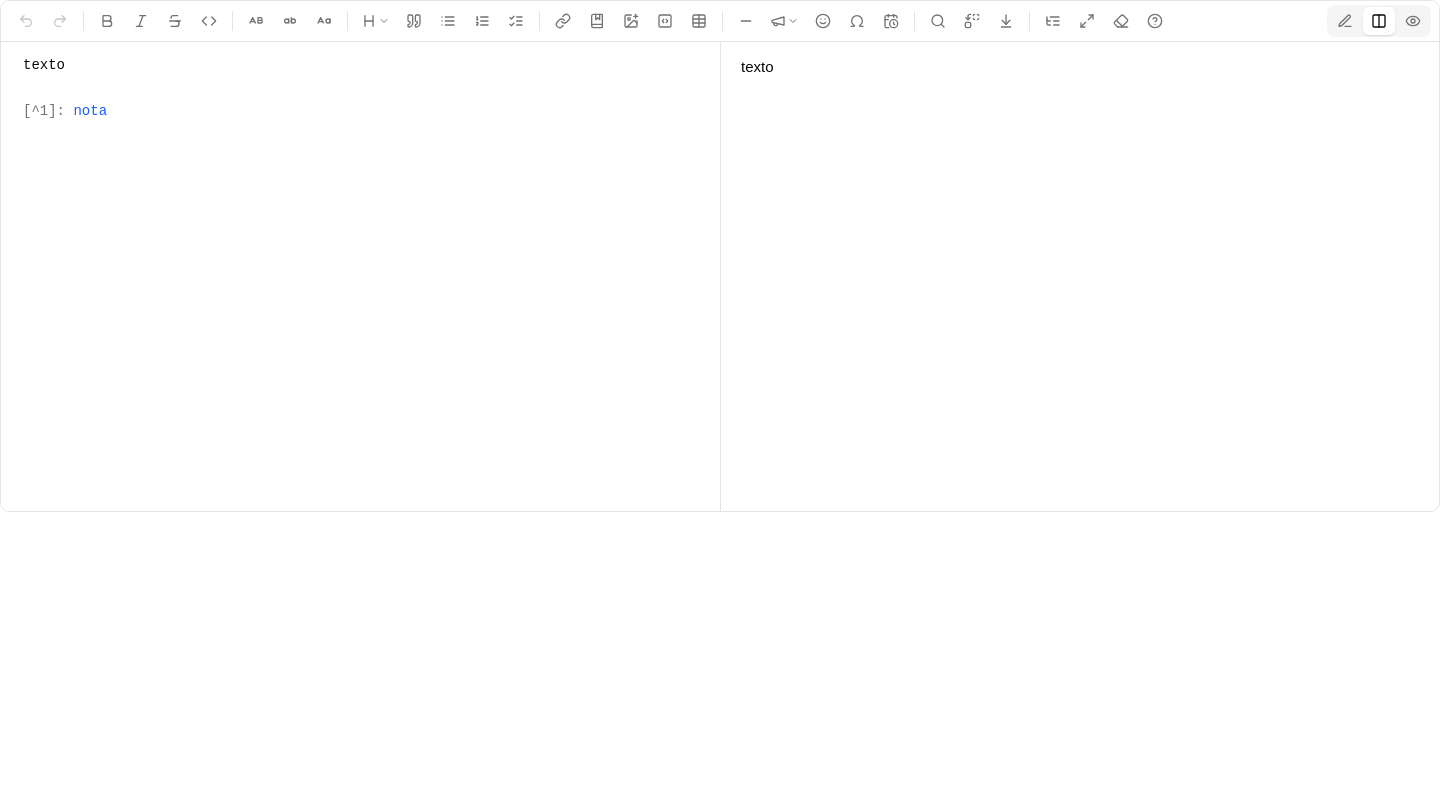
Scenario: flags a repeated reference id
Click the button named "Referencia": [597, 21] box [581,5,613,37]
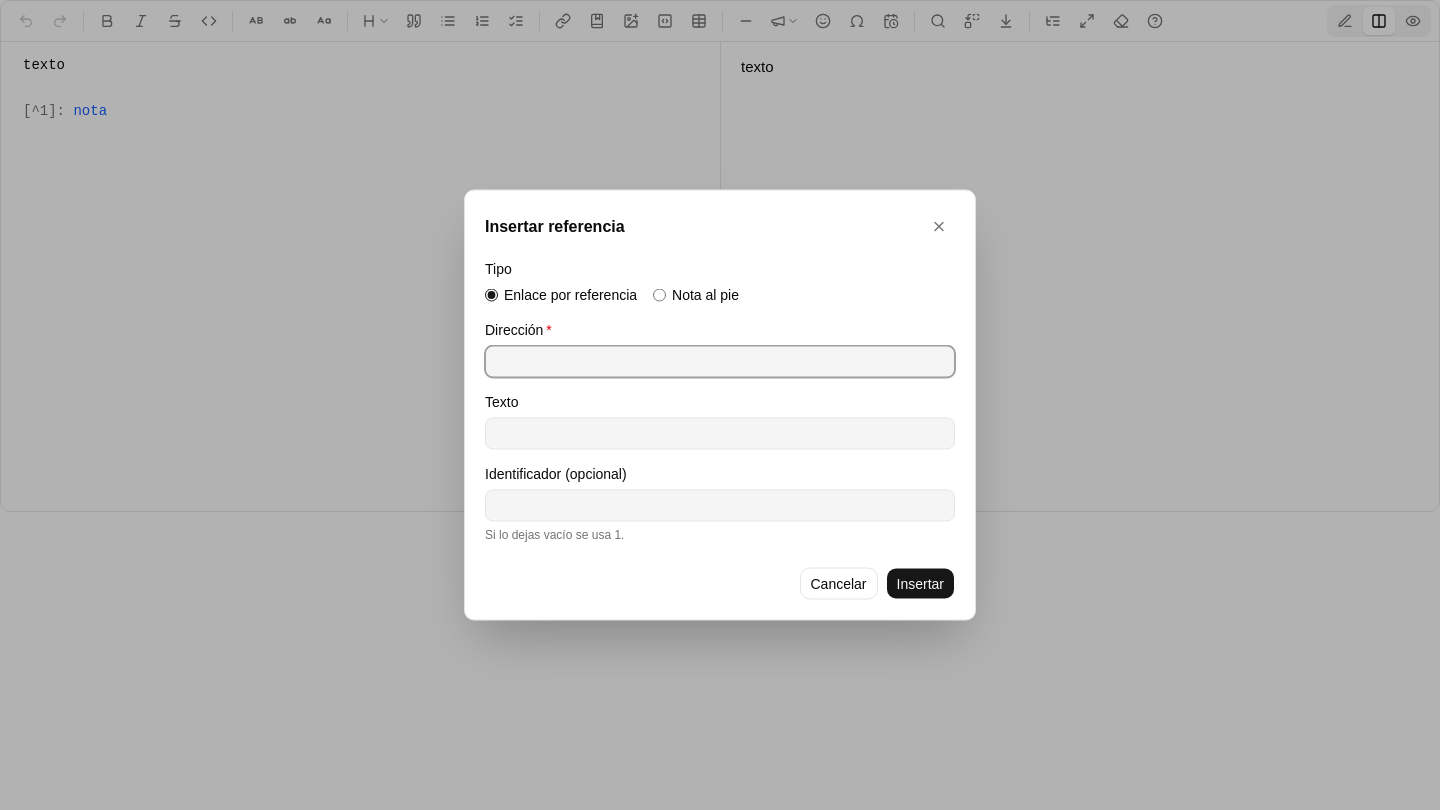
Click the radio button labelled "Nota al pie": [660, 295] box [653,288,666,302]
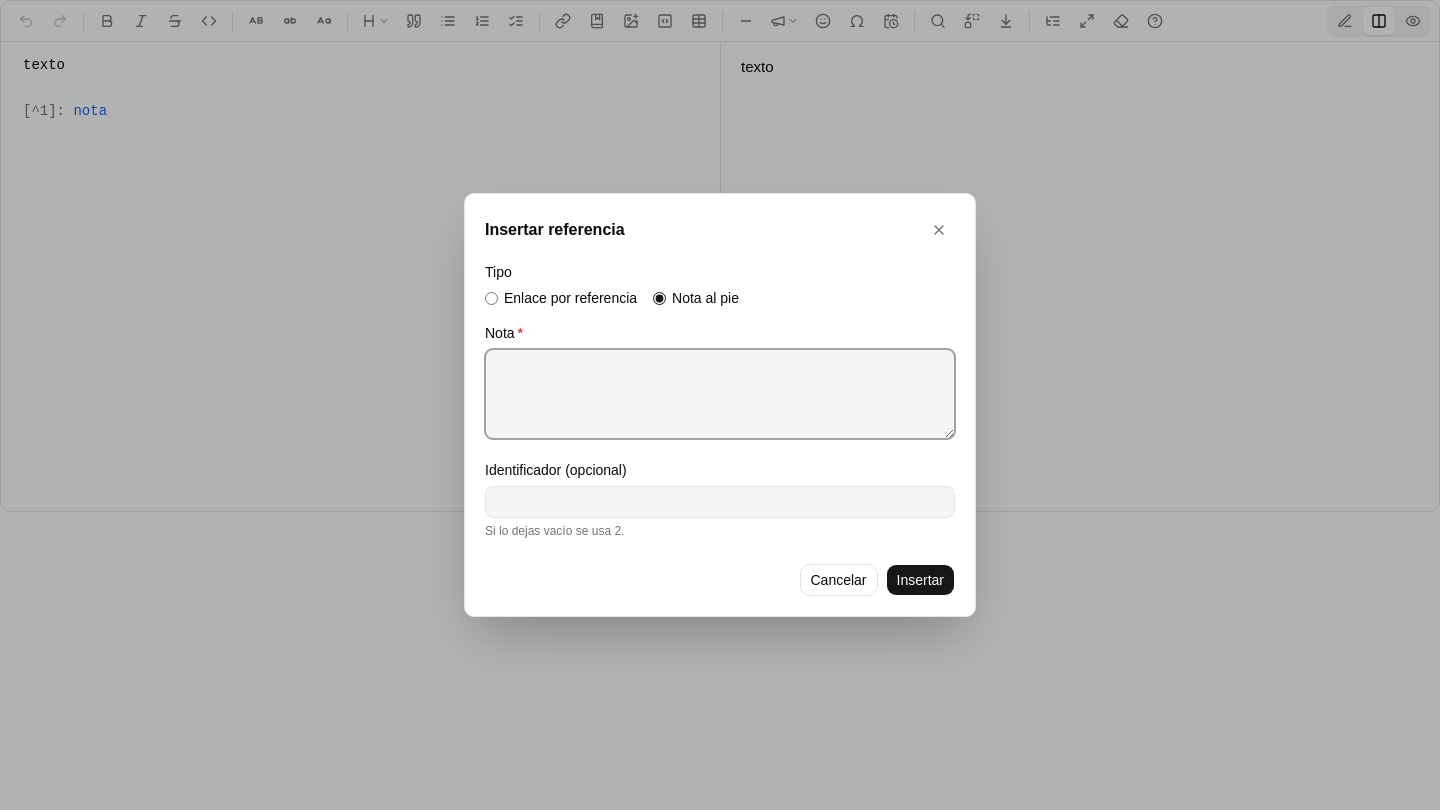
In the text box labelled "Nota": [720, 394] box [485,349,955,439], type "otra"
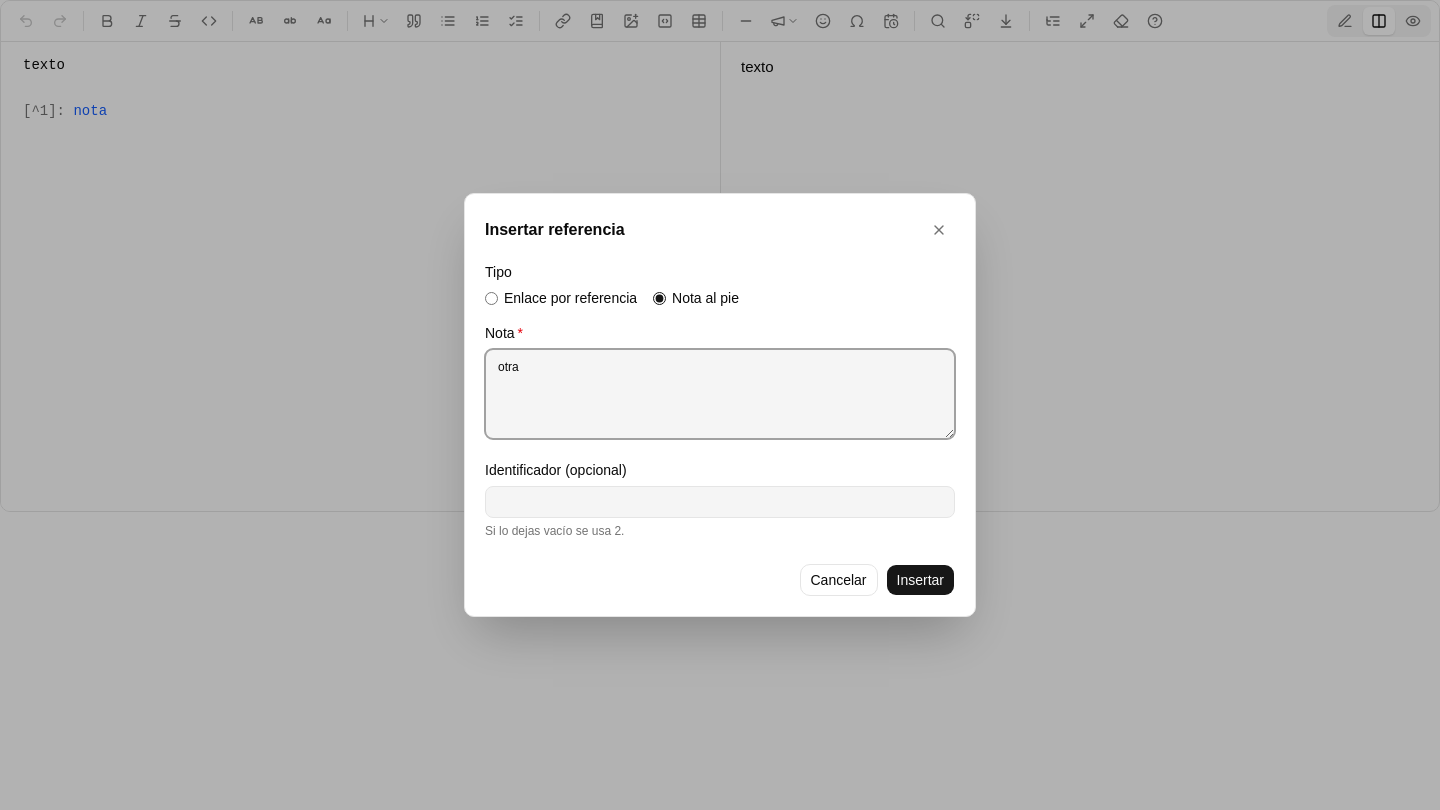
In the field labelled "Identificador (opcional)": [720, 502] box [485,486,955,518], type "1"
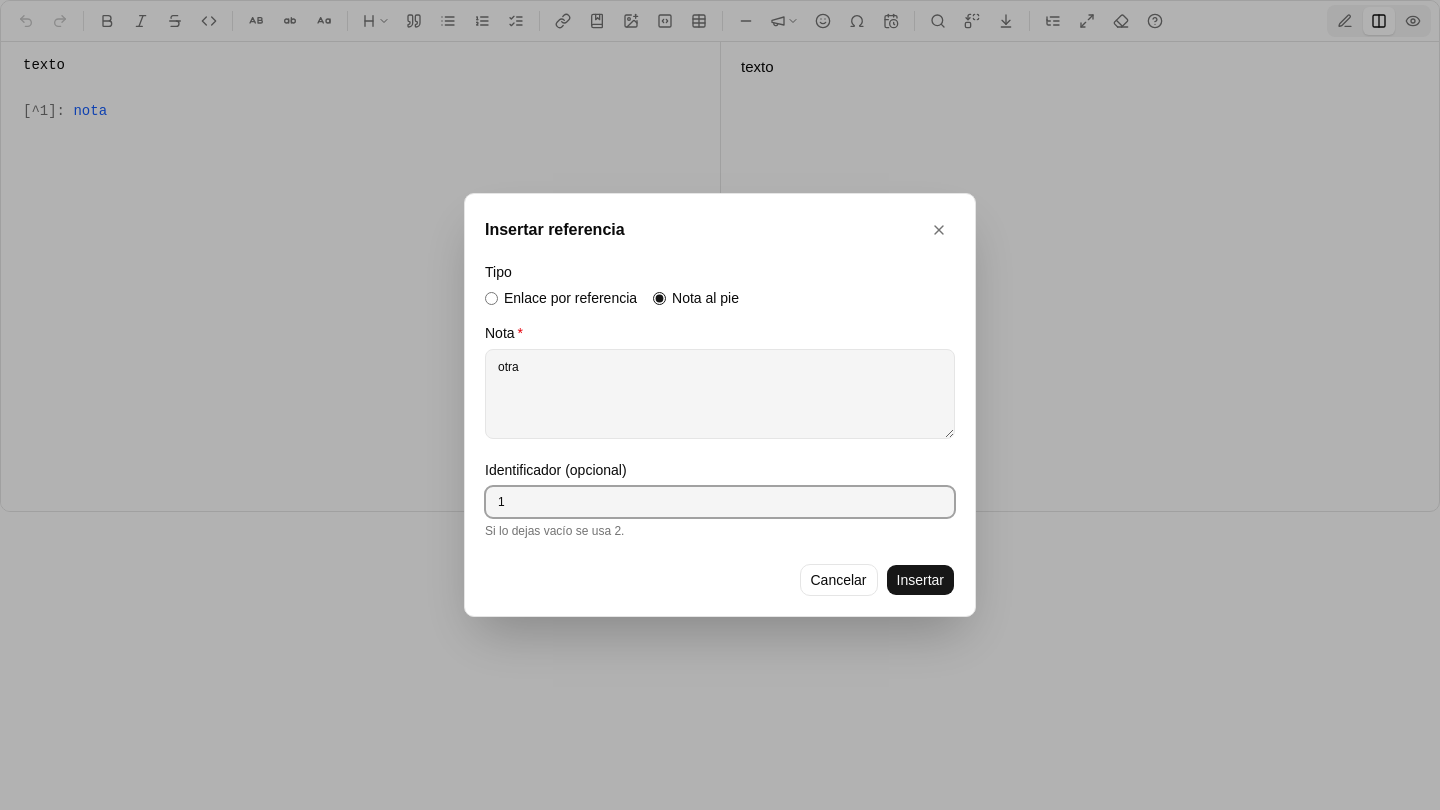
Click the button "Insertar": [920, 580] box [886,564,955,596]
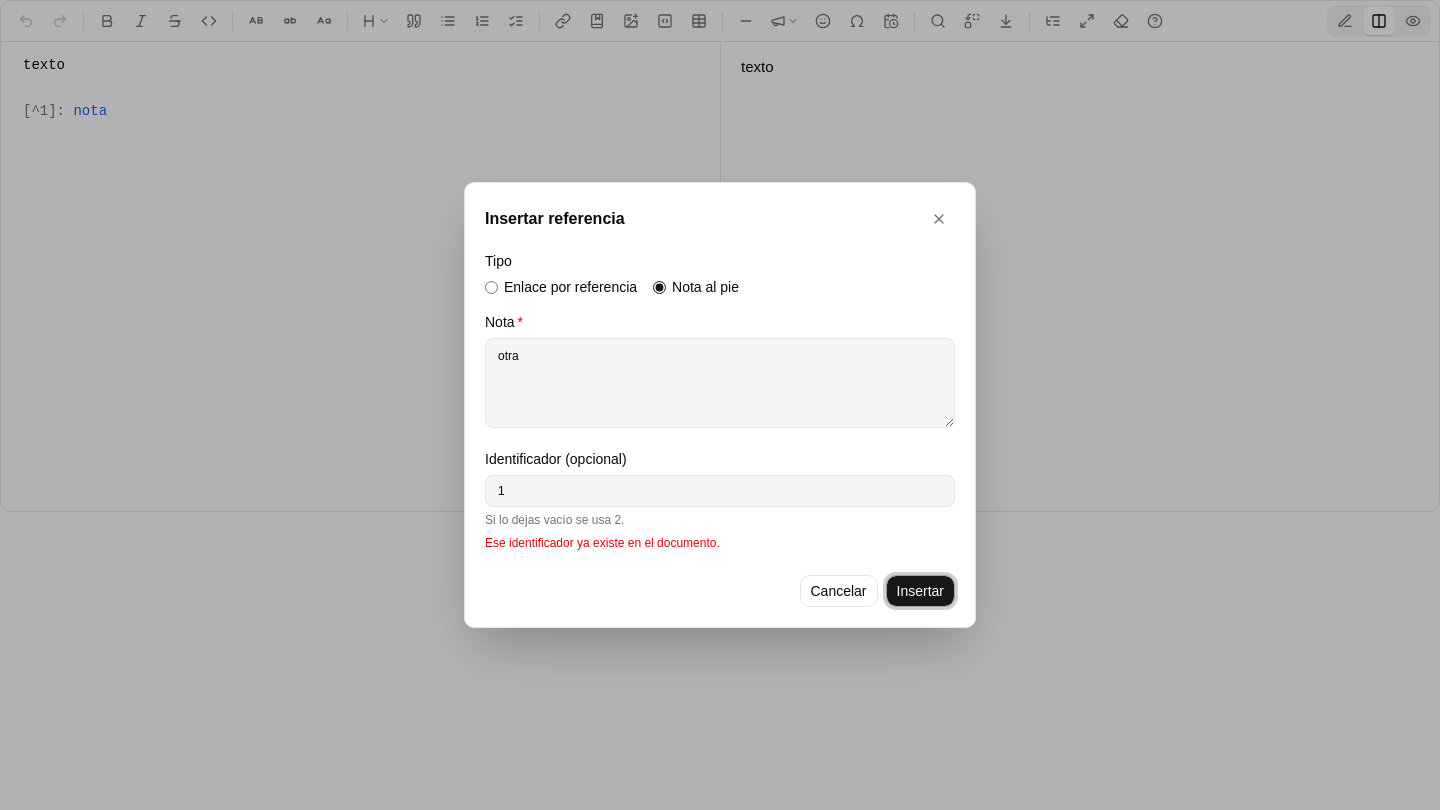
Expected: the text "Si lo dejas vacío se usa 2." is shown, [485,513,624,527]
Expected: the text "Ese identificador ya existe en el documento." is shown, [485,536,720,550]
